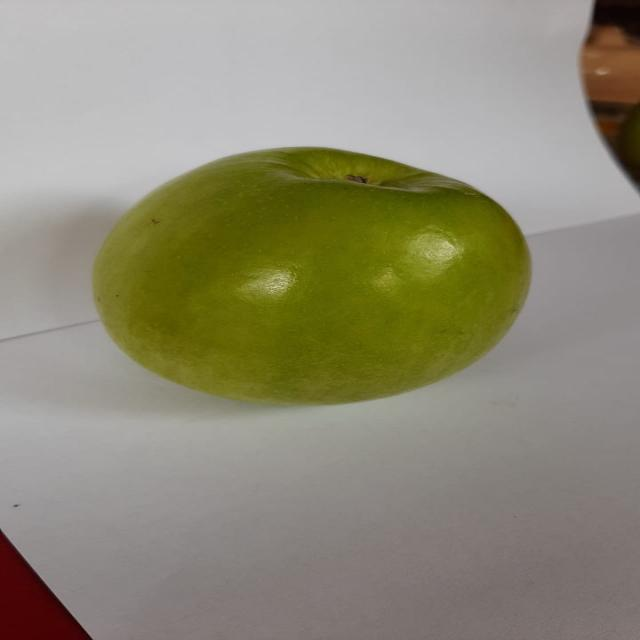50-_ripeness: (77, 138, 543, 419)
